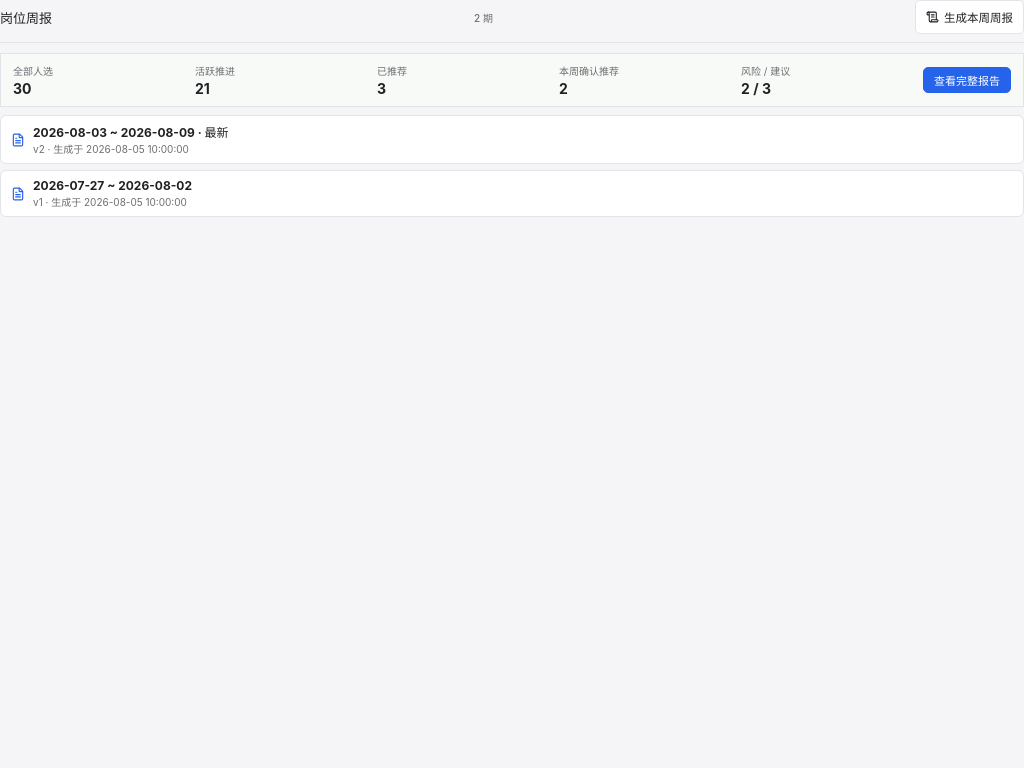
Scenario: 岗位周报区块 › 历史版本列表展示多期，查看完整报告打开产物查看器
The width and height of the screenshot is (1024, 768).
Expected: the text "2 期" is shown, [474,10,493,24]
Expected: the text "2026-08-03 ~ 2026-08-09 · 最新" is shown, [33,123,228,140]
Step 1. Click the button "查看完整报告" → [967, 80], box [923,67,1011,93]
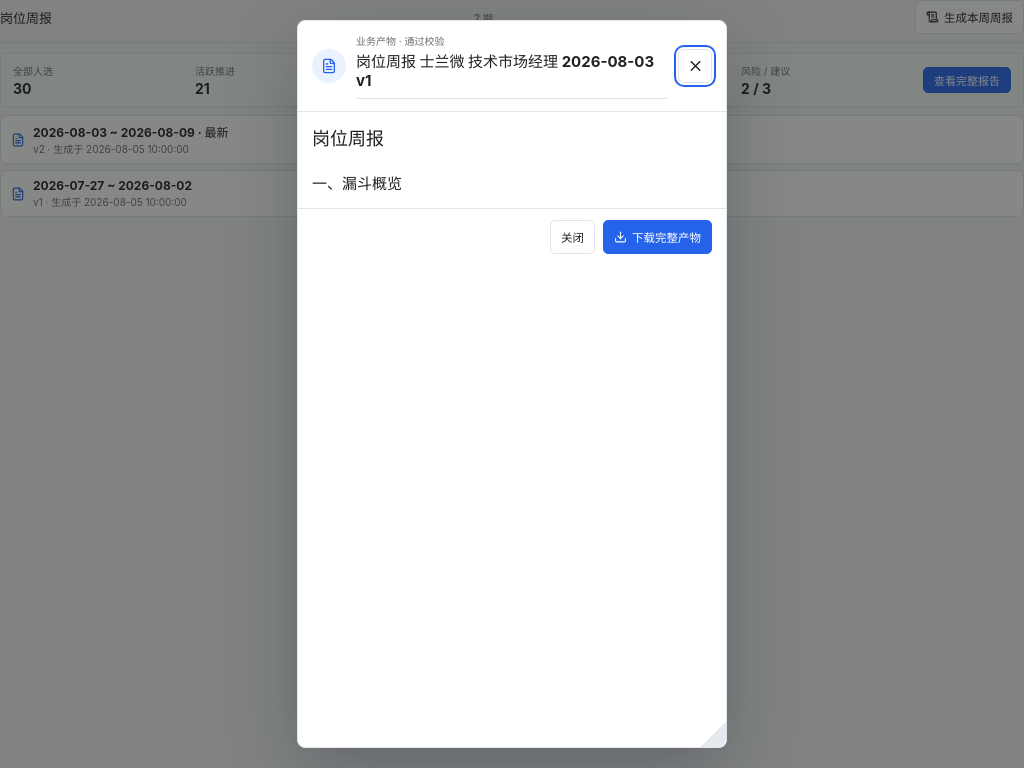
Now the heading "岗位周报 士兰微 技术市场经理 2026-08-03 v1" is shown, box [356,50,668,99]
